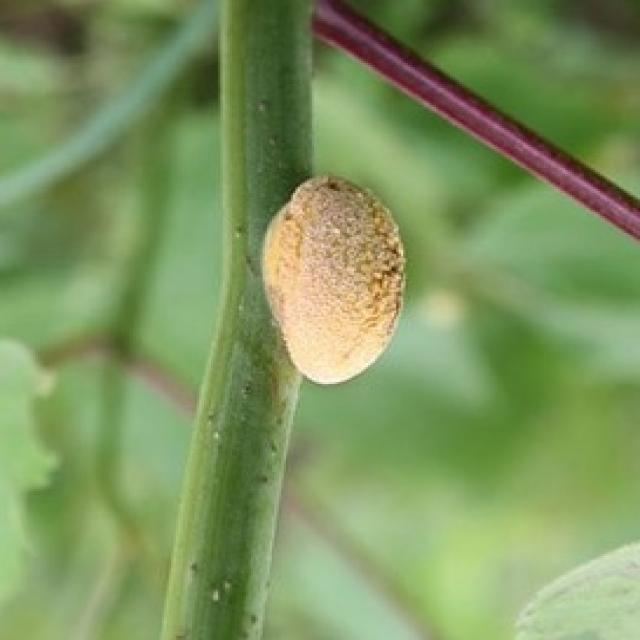Elderberry_rust: (246, 181, 422, 385)
